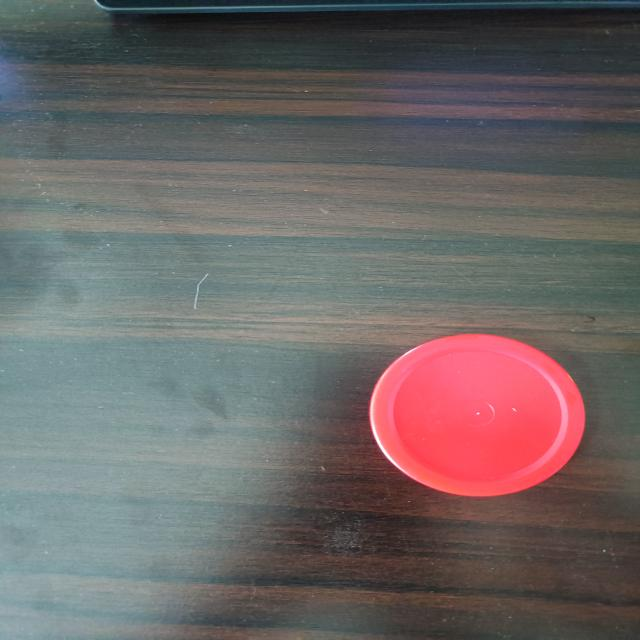chip: (363, 329, 589, 499)
